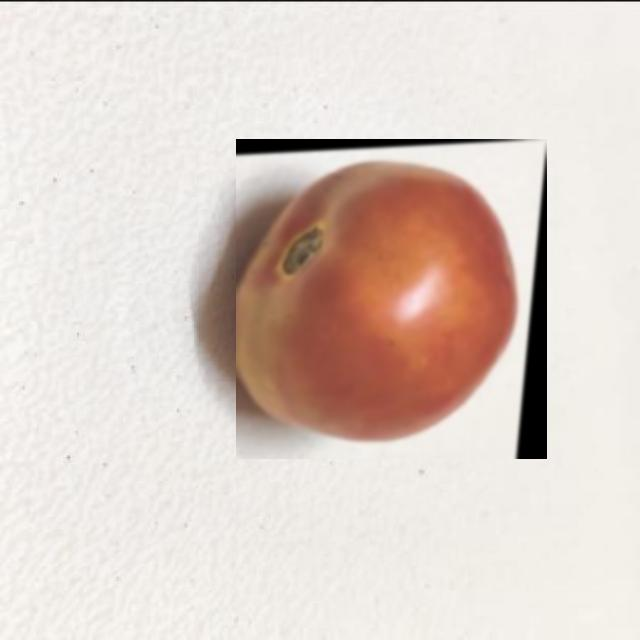tomato: (236, 139, 547, 459)
